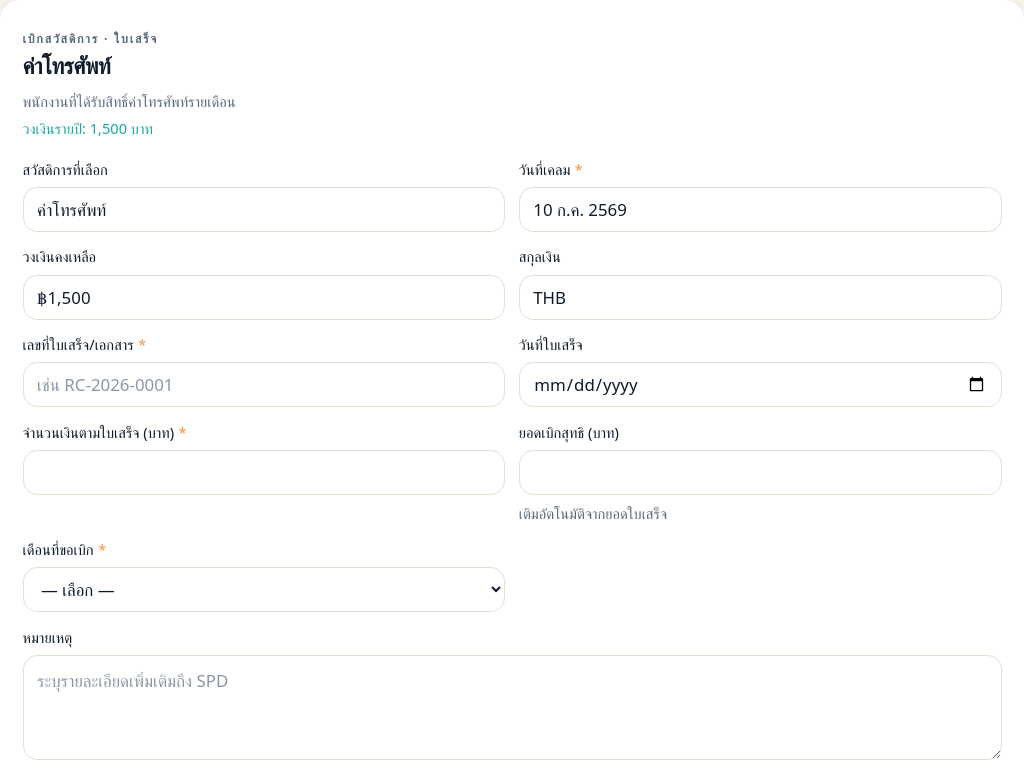
STA-184 — SimpleClaimForm submit preview (confirmBeforeSubmit) › closes the preview without submitting when Edit is clicked
The image size is (1024, 768).
Type "RC-184" into the field labelled "เลขที่ใบเสร็จ/เอกสาร*" at (264, 385), box [22,362,505,407]
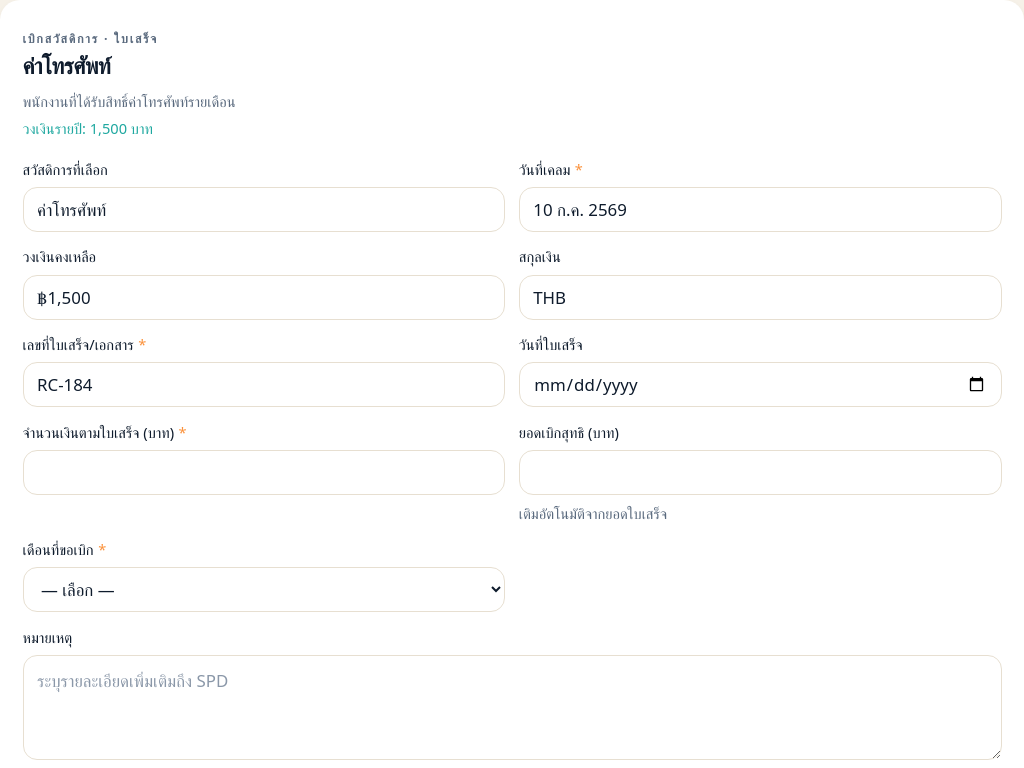
Type "300" into the field labelled "จำนวนเงินตามใบเสร็จ (บาท)*" at (264, 472), box [22,450,505,495]
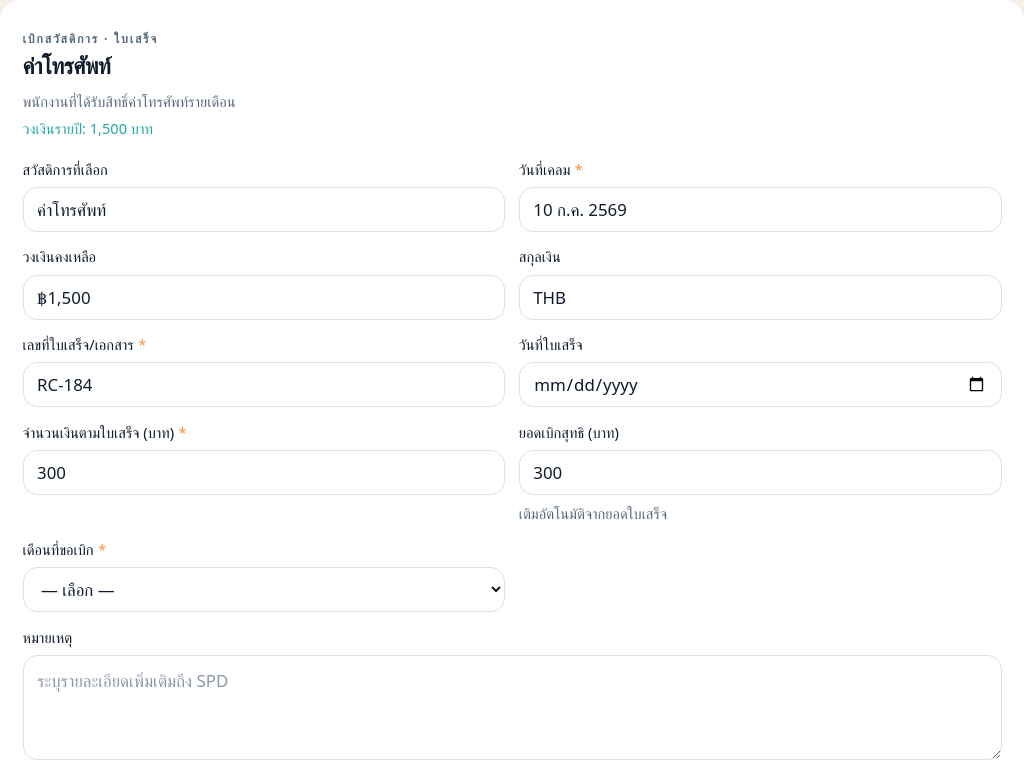
Select "พฤษภาคม" in the dropdown labelled "เดือนที่ขอเบิก*" at (264, 590), box [22,567,505,612]
(page scrolled)
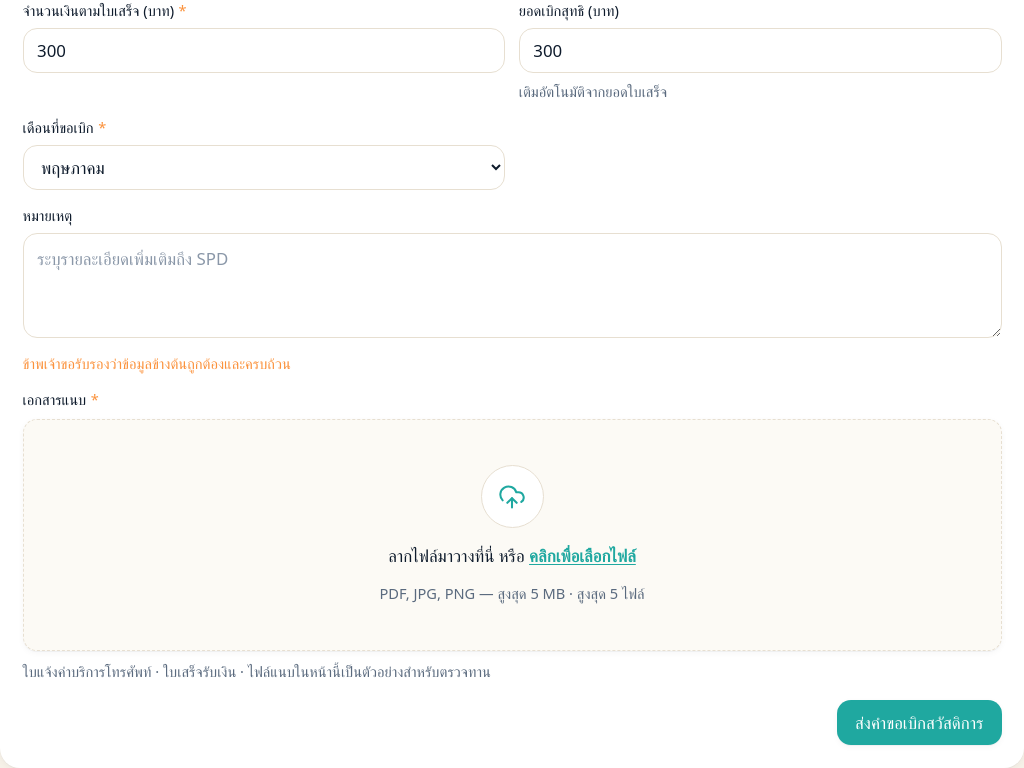
Click the button "ส่งคำขอเบิกสวัสดิการ" at (919, 723), box [837,700,1002,745]
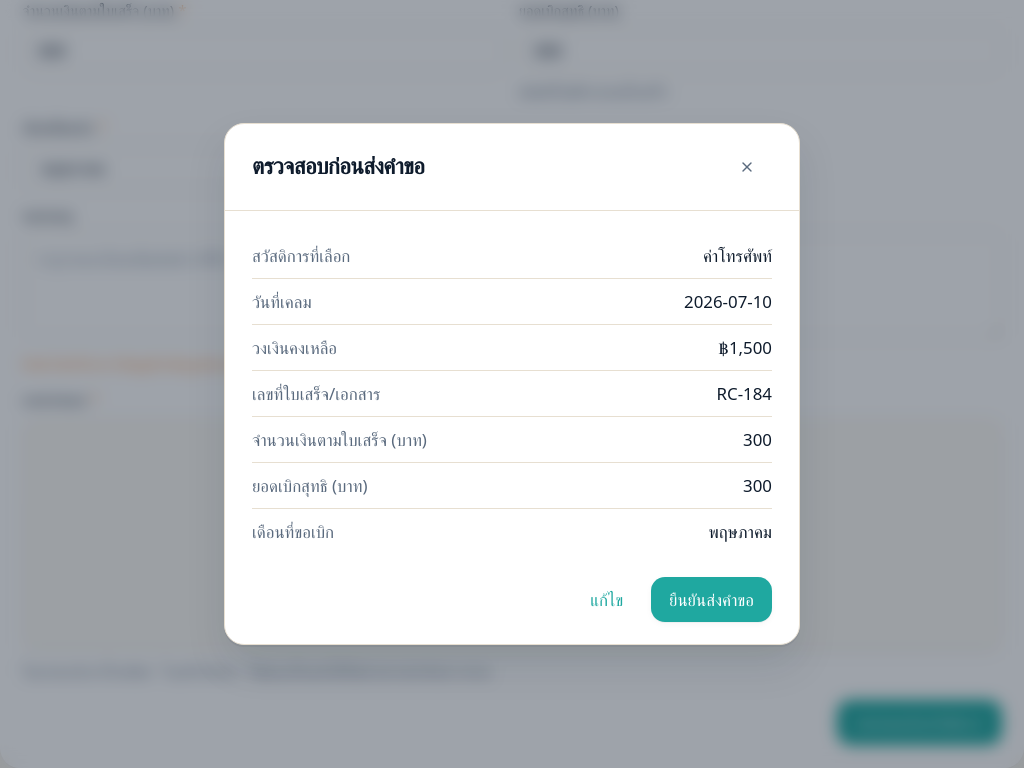
Click the button "แก้ไข" at (607, 599), box [571,576,642,622]
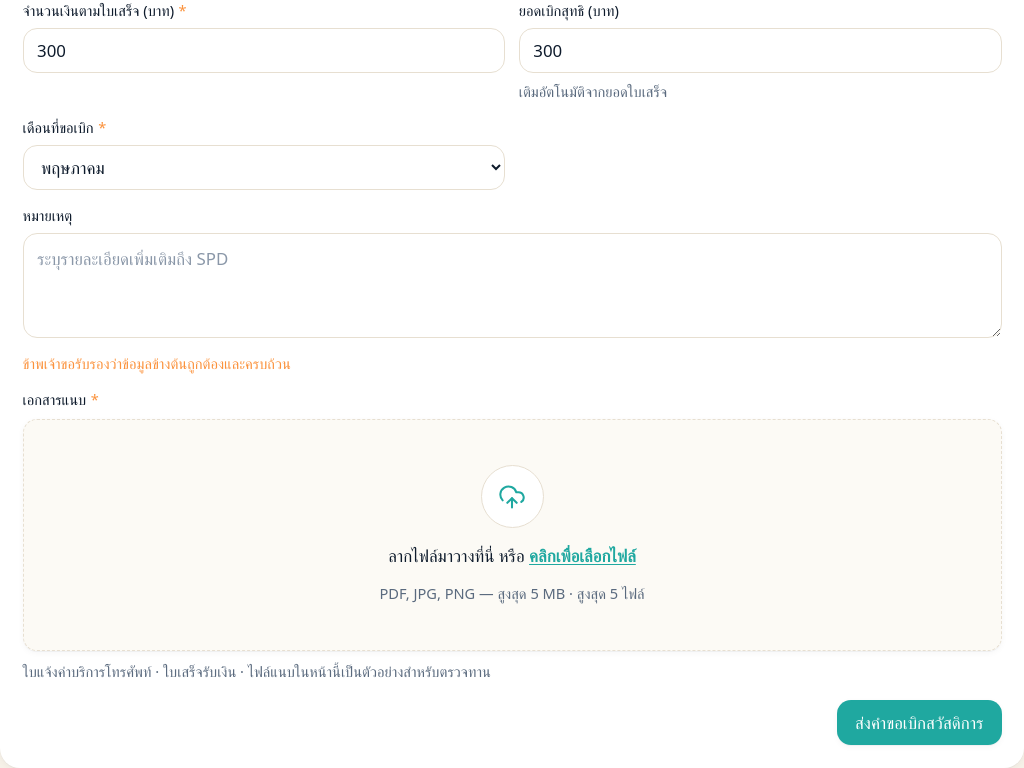
Check: the heading "ตรวจสอบก่อนส่งคำขอ" is gone
